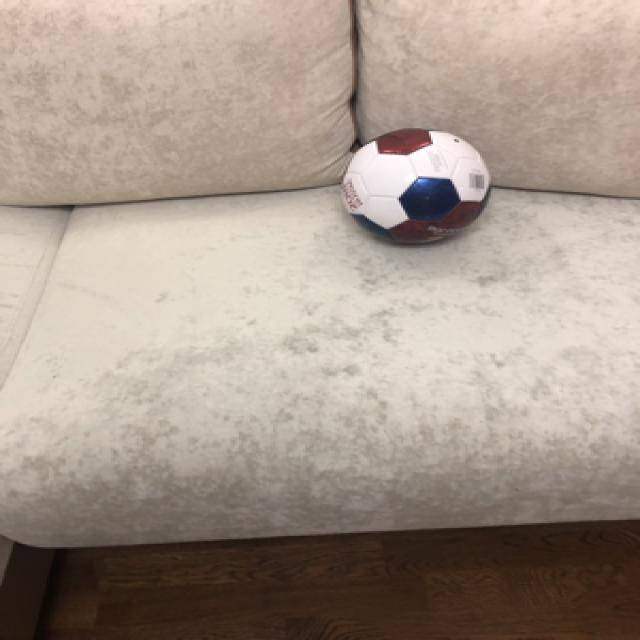soccer_ball: (335, 125, 493, 246)
